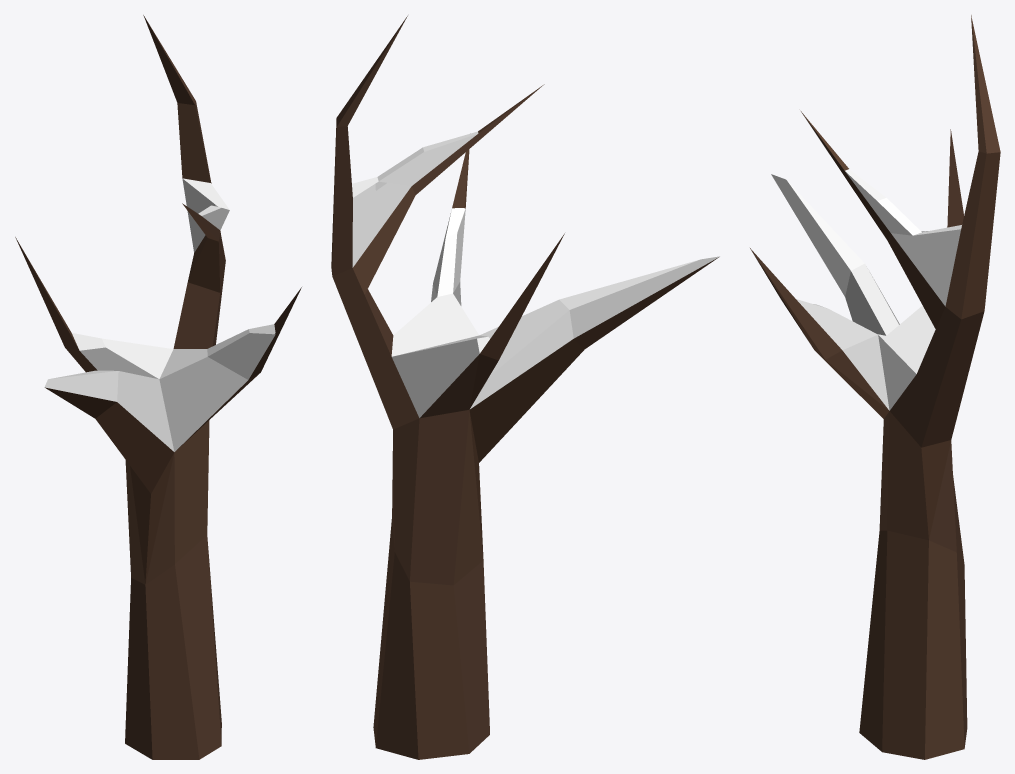
The model's file is TreeWinter6_Alt4.fbx.
3 renders of one model, left to right at view 1: azimuth 30°, elevation 25°; view 2: azimuth 150°, elevation 25°; view 3: azimuth 270°, elevation 25°, orthographic. The views are drawn at different scales.
Parts seen in each view (by area): view 1: TreeWinter6_Alt4; view 2: TreeWinter6_Alt4; view 3: TreeWinter6_Alt4.
Part boxes in pixels (left/top/right/bottom): TreeWinter6_Alt4: left=15, top=15, right=301, bottom=759; TreeWinter6_Alt4: left=331, top=16, right=719, bottom=759; TreeWinter6_Alt4: left=750, top=15, right=1000, bottom=759.
Size of the model in its own units: 0.8585 by 2.11 by 0.6677.
